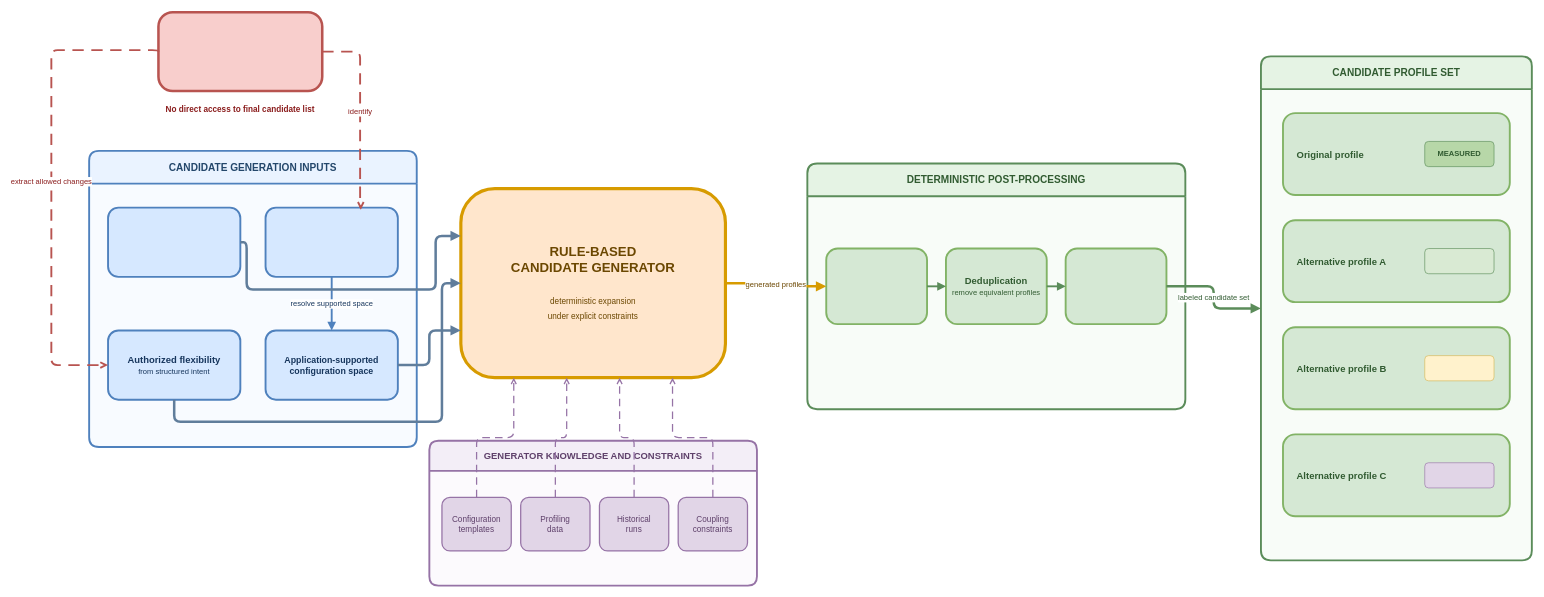
The diagram is 1544 pixels wide and 597 high, and some of its shapes have lost their labels. Each missing label, with the centre of its shape:
"Application identification" goes at (331,242).
"Evidence labeling attach origin and type" goes at (1115,286).
"HISTORICAL" goes at (1459,261).
"INFERRED" goes at (1459,475).
"LLM scope-limited interpretation" goes at (240,51).
"MODELED" goes at (1459,368).
"Normalization canonical units and fields" goes at (876,286).
"Original resource profile" goes at (174,242).
